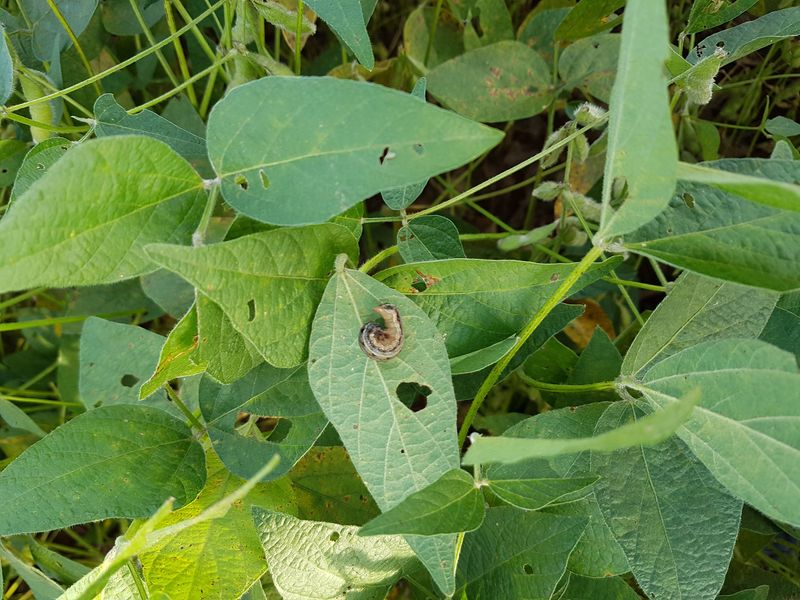Spodoptera_albula: (344, 294, 418, 368)
